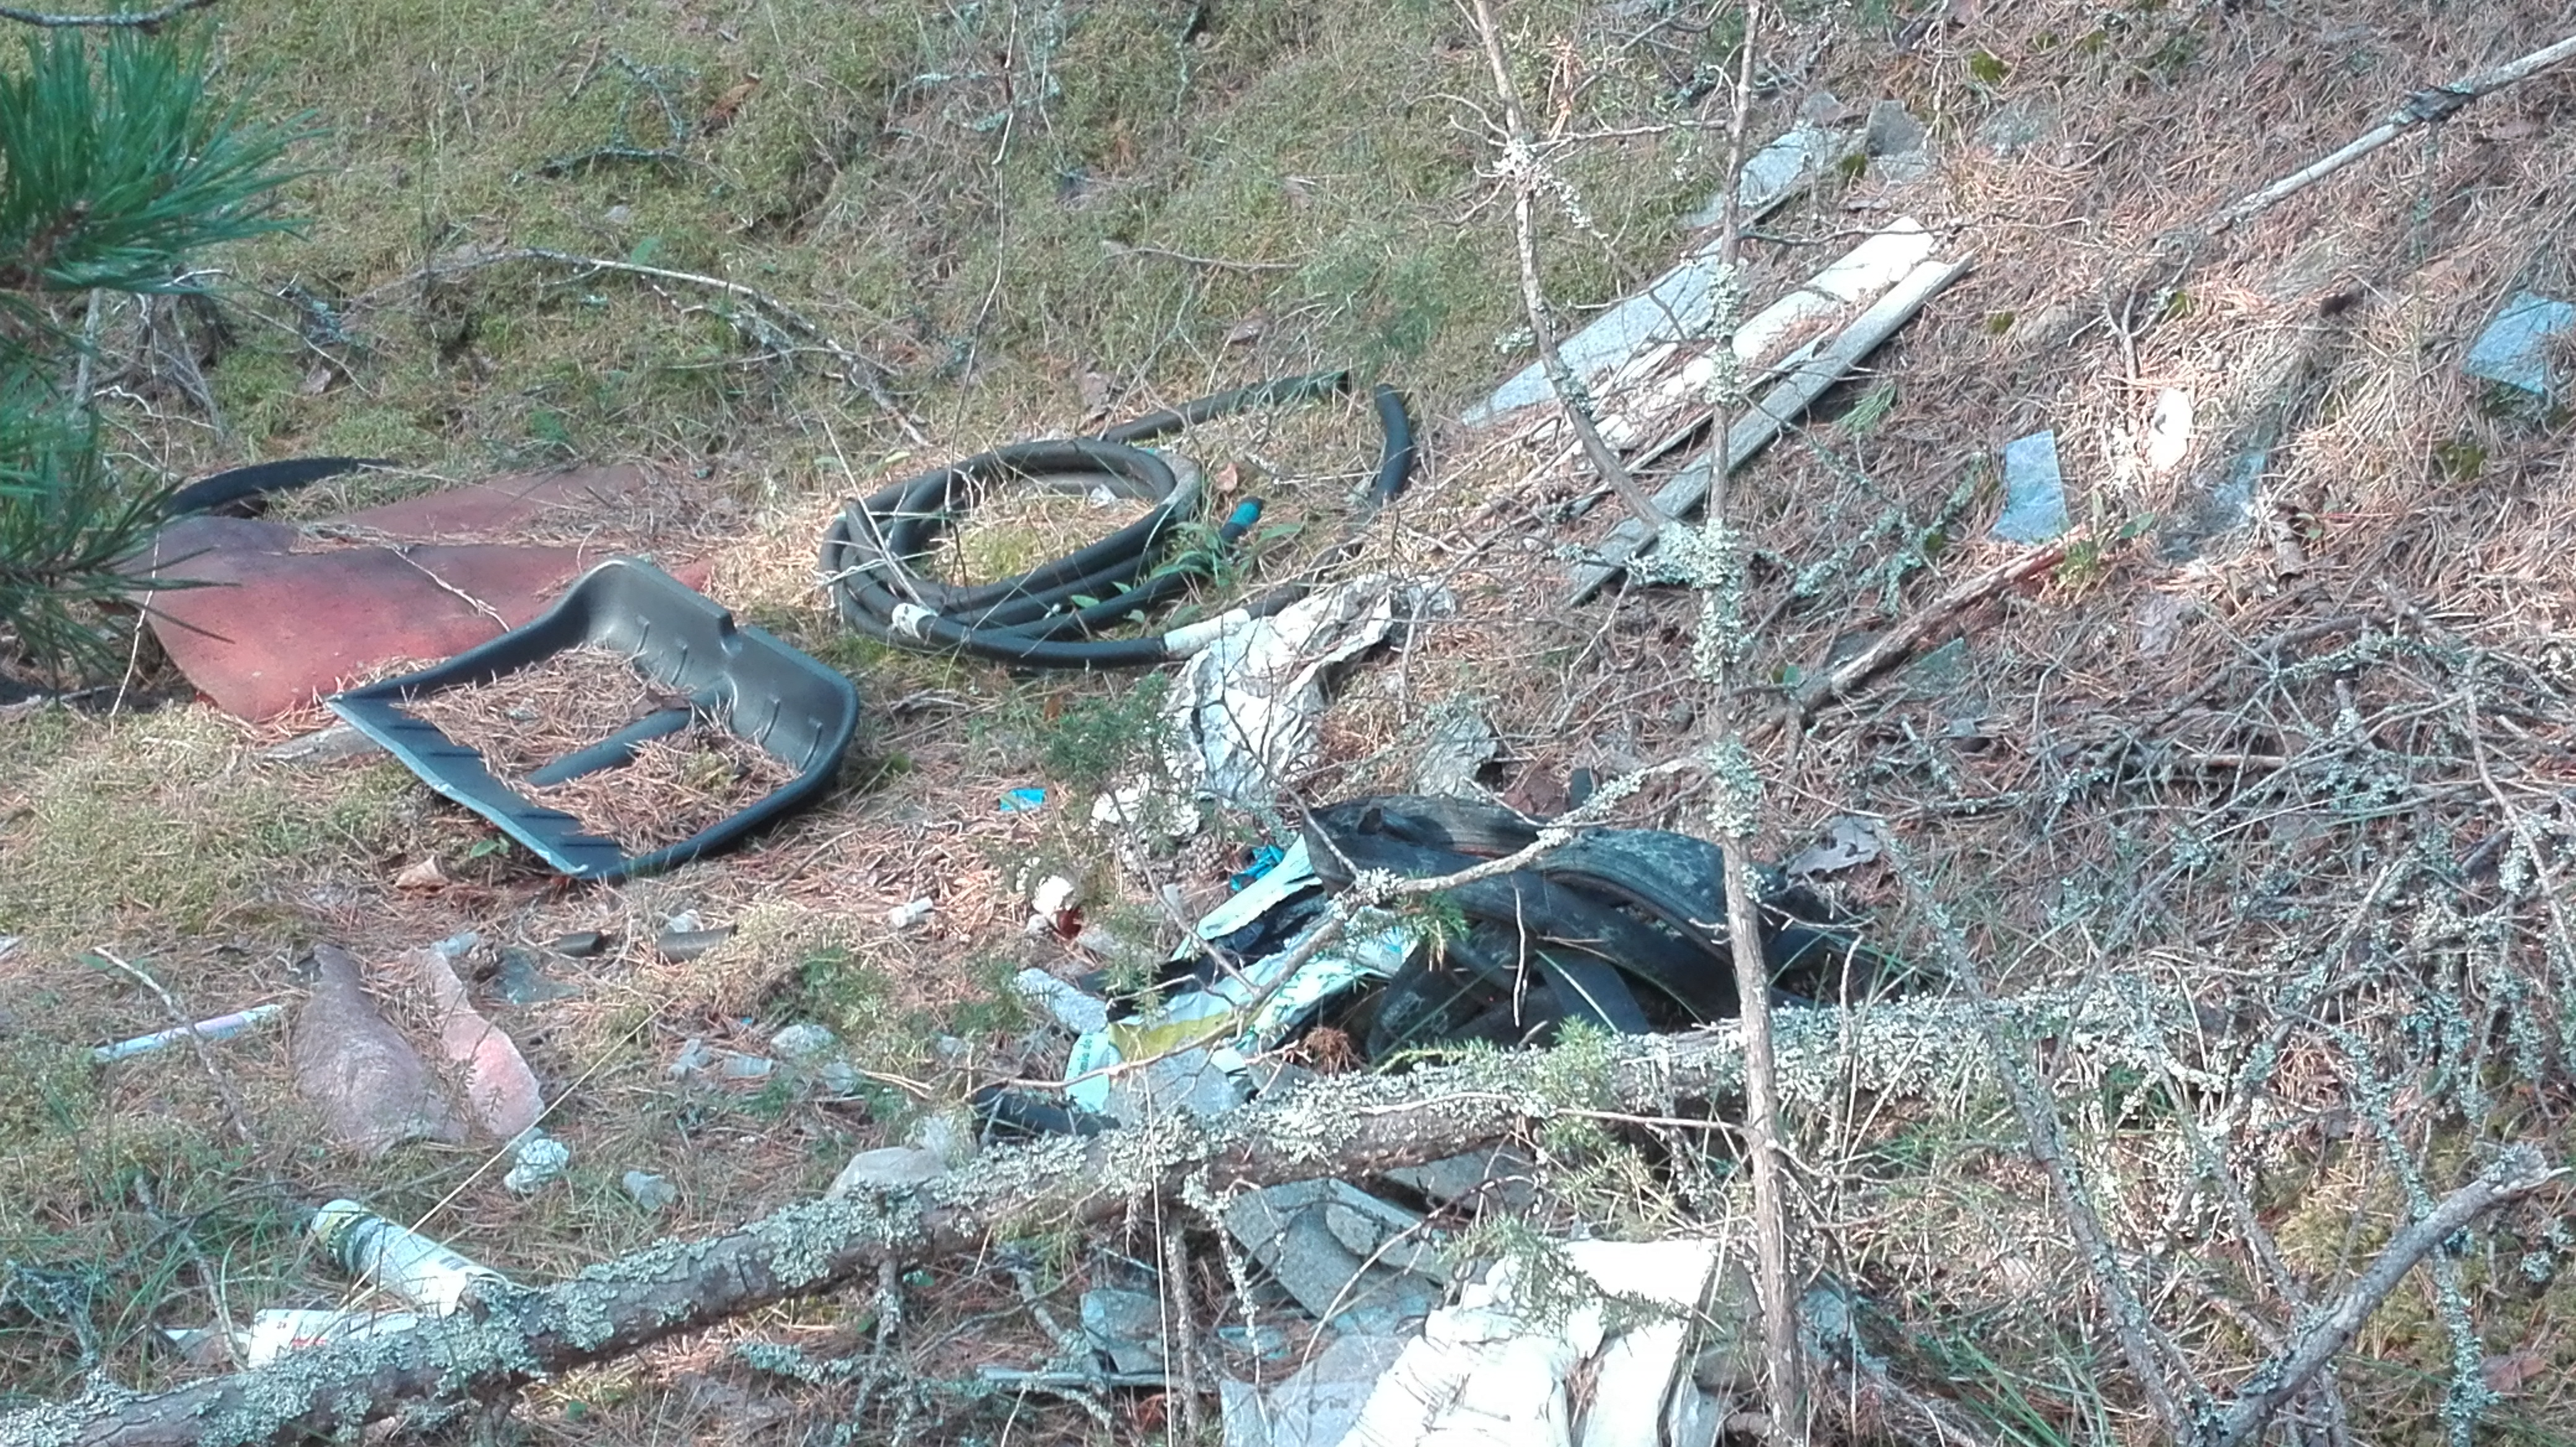trash: (708, 754, 1960, 1438), (154, 278, 1277, 927), (156, 969, 660, 1385), (2431, 228, 2574, 442)
